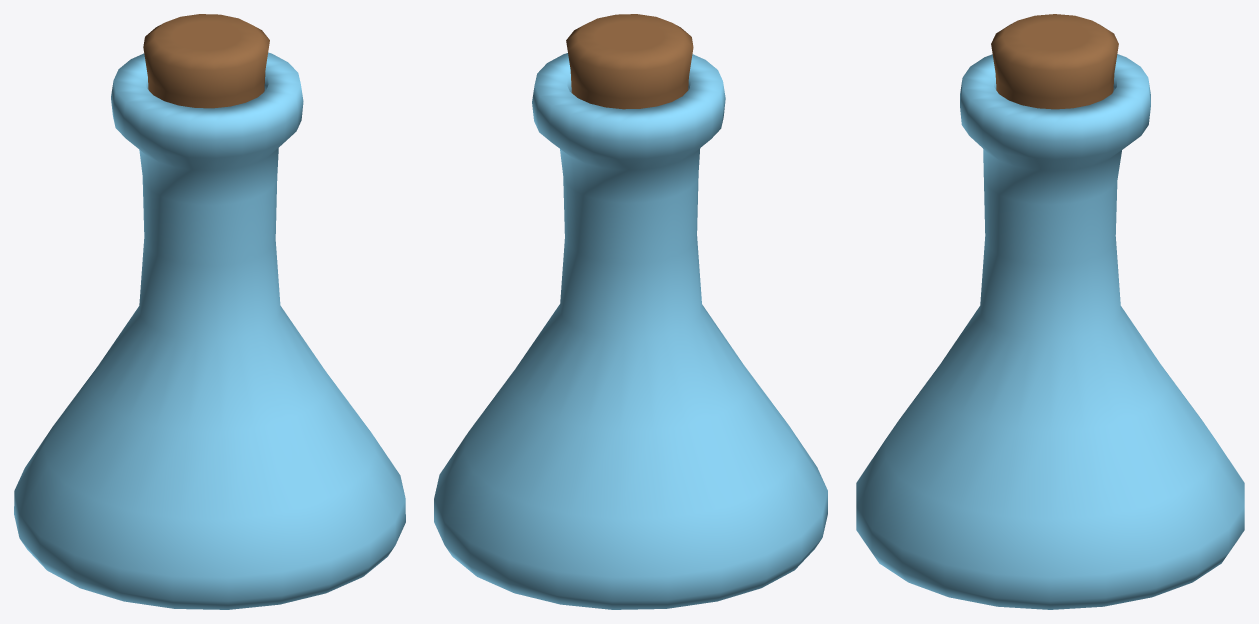
Rendered from FlaskTriangular.fbx.
3 renders of one model, left to right at view 1: azimuth 30°, elevation 25°; view 2: azimuth 150°, elevation 25°; view 3: azimuth 270°, elevation 25°, orthographic.
Parts seen in each view (by area): view 1: FlaskTriangular; view 2: FlaskTriangular; view 3: FlaskTriangular.
Part boxes in pixels (x1,y1,x2,y2): FlaskTriangular: [14, 14, 405, 609]; FlaskTriangular: [434, 14, 827, 609]; FlaskTriangular: [856, 14, 1244, 609].
Bounding box in the file's own units: 35.67 × 50.54 × 35.31.
